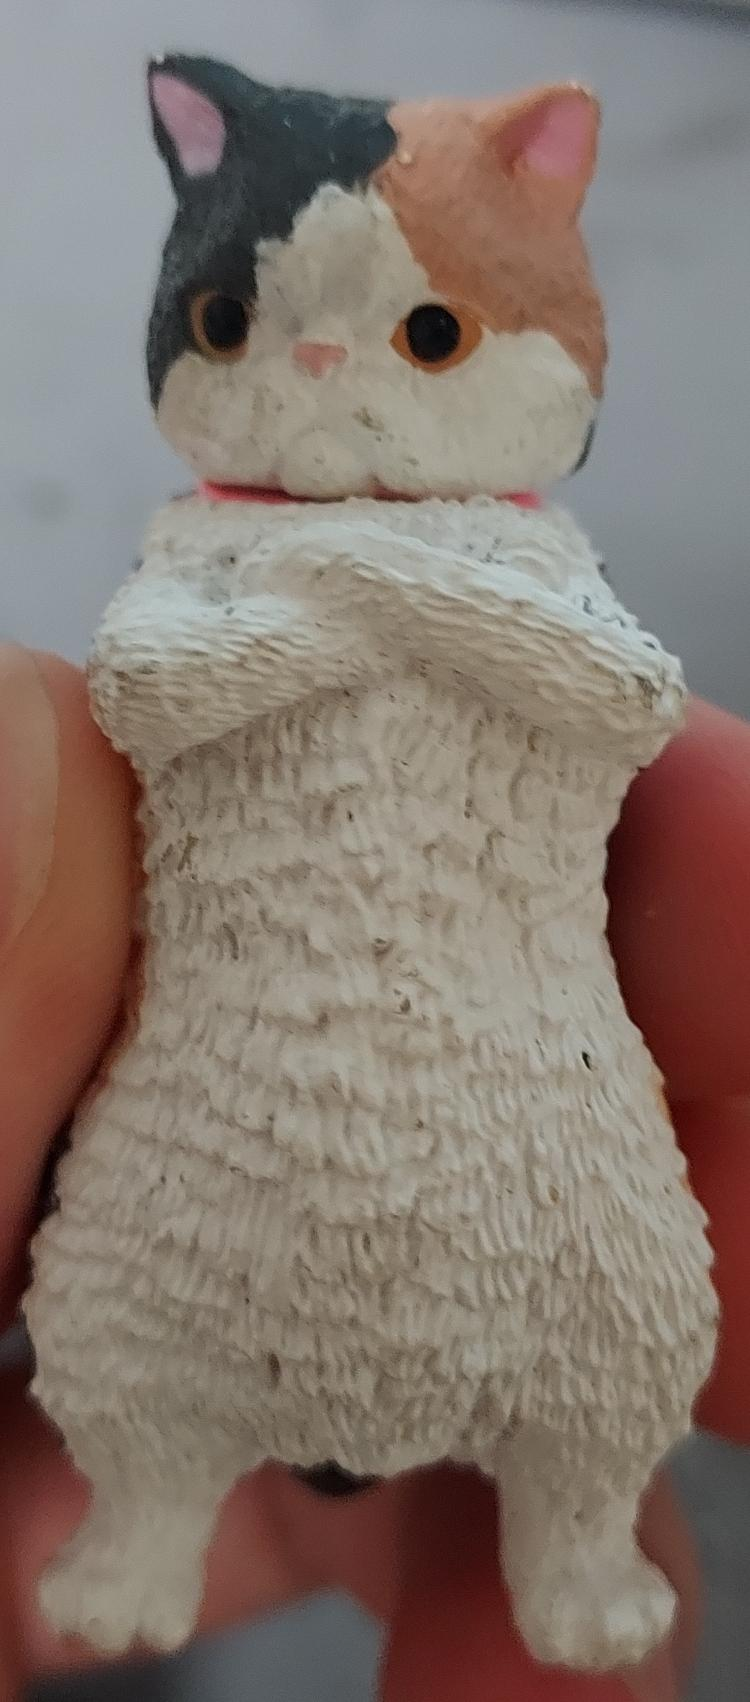cat: (0, 1, 750, 1702)
